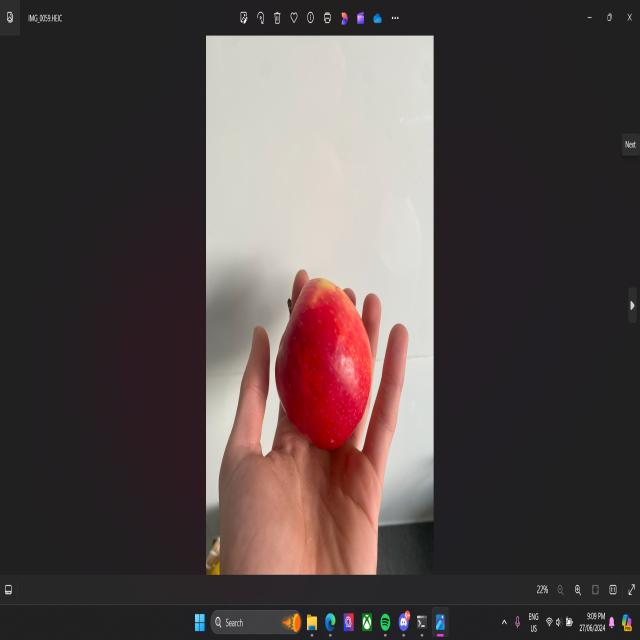Apple: (275, 278, 372, 449)
